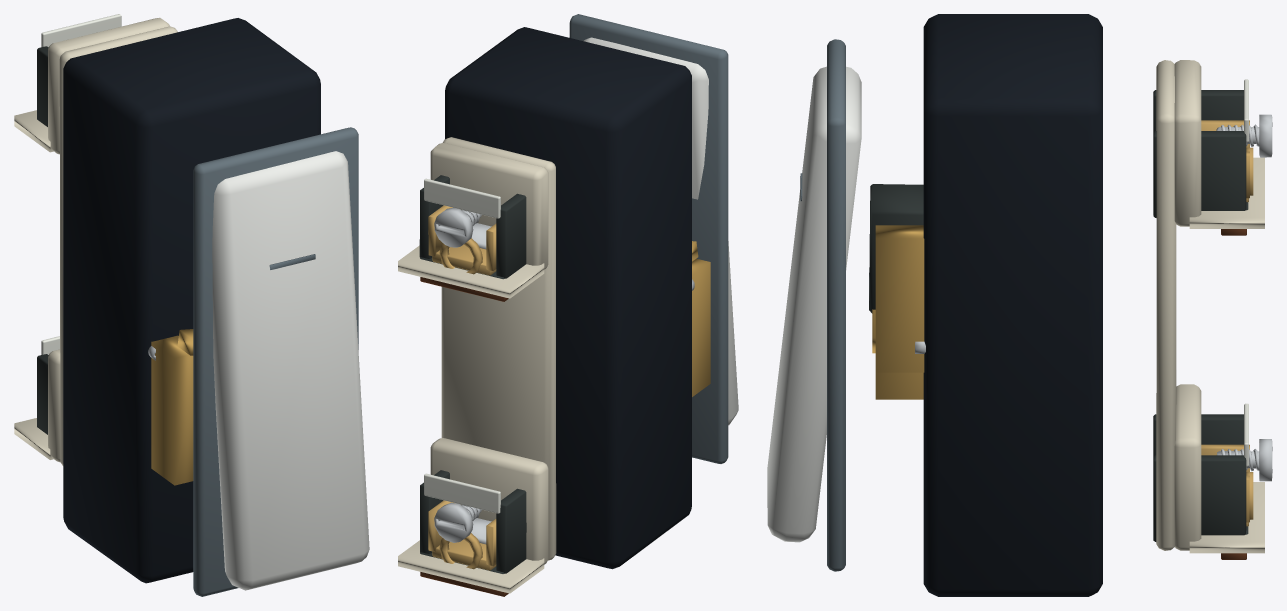
Rendered from switch_gang-module-right.low.glb.
The picture shows the model from 3 angles, left to right: view 1: azimuth 30°, elevation 25°; view 2: azimuth 150°, elevation 25°; view 3: azimuth 270°, elevation 25°; orthographic projection. The views are drawn at different scales.
Visible parts, largest first — view 1: part:contacts, motion:rocker, part:actuator, part:terminals · Original 5a609f27, part:contacts.001 · Original df732090, Moulded terminal legend pad, detail:terminal-clamp:COM · Detail moulded engineering polym, detail:terminal-clamp:OUT · Detail moulded engineering polym; view 2: part:contacts, part:terminals · Original 5a609f27, part:actuator, motion:rocker, detail:terminal-clamp:COM · Detail moulded engineering polym, detail:terminal-clamp:OUT · Detail moulded engineering polym, part:contacts.001 · Original df732090, detail:terminal-clamp:COM · Detail machined brass, detail:terminal-clamp:OUT · Detail machined brass, Moulded terminal legend pad, Moulded terminal legend pad.001, detail:terminal-clamp:OUT · Detail zinc plated fixing (+3 smaller); view 3: part:contacts, part:terminals · Original 5a609f27, motion:rocker, part:actuator, part:contacts.001 · Original df732090, detail:terminal-clamp:OUT · Detail moulded engineering polym, detail:terminal-clamp:COM · Detail moulded engineering polym, Insulating cam follower, detail:terminal-clamp:OUT · Detail zinc plated fixing, detail:terminal-clamp:COM · Detail zinc plated fixing, detail:terminal-clamp:OUT · Detail machined brass, detail:terminal-clamp:COM · Detail machined brass.
Part boxes in pixels (left/top/right/bottom): part:contacts: left=63, top=18, right=320, bottom=583; motion:rocker: left=212, top=151, right=369, bottom=590; part:actuator: left=193, top=127, right=358, bottom=596; part:terminals · Original 5a609f27: left=14, top=17, right=177, bottom=465; part:contacts.001 · Original df732090: left=151, top=329, right=193, bottom=485; Moulded terminal legend pad: left=41, top=14, right=121, bottom=47; detail:terminal-clamp:COM · Detail moulded engineering polym: left=37, top=46, right=48, bottom=126; detail:terminal-clamp:OUT · Detail moulded engineering polym: left=37, top=354, right=48, bottom=434; part:contacts: left=445, top=27, right=691, bottom=569; part:terminals · Original 5a609f27: left=398, top=137, right=556, bottom=593; part:actuator: left=569, top=14, right=728, bottom=463; motion:rocker: left=583, top=37, right=738, bottom=425; detail:terminal-clamp:COM · Detail moulded engineering polym: left=419, top=175, right=526, bottom=279; detail:terminal-clamp:OUT · Detail moulded engineering polym: left=420, top=470, right=526, bottom=573; part:contacts.001 · Original df732090: left=692, top=241, right=710, bottom=396; detail:terminal-clamp:COM · Detail machined brass: left=428, top=205, right=496, bottom=275; detail:terminal-clamp:OUT · Detail machined brass: left=428, top=500, right=496, bottom=570; Moulded terminal legend pad: left=424, top=178, right=500, bottom=218; Moulded terminal legend pad.001: left=424, top=473, right=500, bottom=513; detail:terminal-clamp:OUT · Detail zinc plated fixing: left=434, top=502, right=491, bottom=544; part:contacts: left=923, top=14, right=1102, bottom=596; part:terminals · Original 5a609f27: left=1156, top=60, right=1264, bottom=553; motion:rocker: left=767, top=66, right=861, bottom=542; part:actuator: left=827, top=39, right=845, bottom=571; part:contacts.001 · Original df732090: left=872, top=225, right=924, bottom=399; detail:terminal-clamp:OUT · Detail moulded engineering polym: left=1153, top=414, right=1248, bottom=541; detail:terminal-clamp:COM · Detail moulded engineering polym: left=1153, top=90, right=1248, bottom=217; Insulating cam follower: left=869, top=184, right=923, bottom=313; detail:terminal-clamp:OUT · Detail zinc plated fixing: left=1217, top=439, right=1272, bottom=481; detail:terminal-clamp:COM · Detail zinc plated fixing: left=1216, top=114, right=1272, bottom=157; detail:terminal-clamp:OUT · Detail machined brass: left=1201, top=444, right=1253, bottom=526; detail:terminal-clamp:COM · Detail machined brass: left=1201, top=120, right=1253, bottom=202.
Size of the model in its own units: 0.2691 by 0.6592 by 0.6047.
